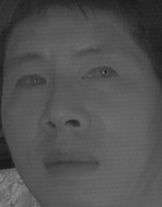eye: (82, 62, 120, 86), (12, 71, 49, 94)
mouth: (40, 144, 101, 180)
